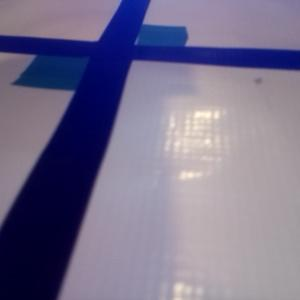bottom_left: (12, 42, 122, 91)
top_right: (108, 25, 188, 59)
